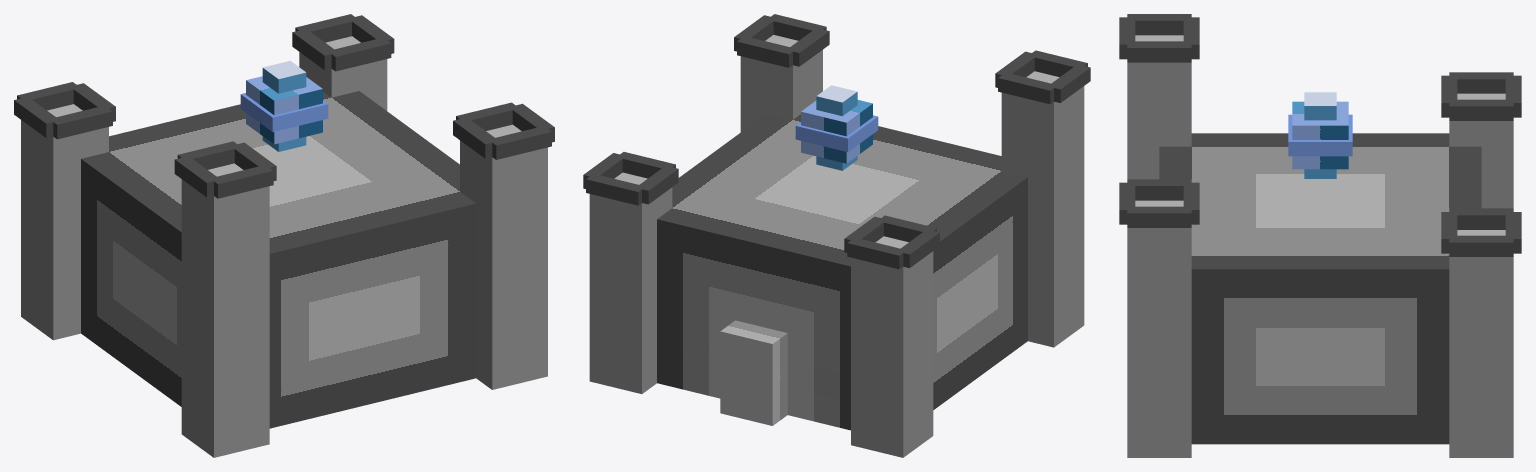
File: Castle.fbx
The picture shows the model from 3 angles, left to right: view 1: azimuth 30°, elevation 25°; view 2: azimuth 150°, elevation 25°; view 3: azimuth 270°, elevation 25°; orthographic projection. The views are drawn at different scales.
Parts seen in each view (by area): view 1: Base, SW Tower, SW Tower_2, SW Tower_4, SW Tower_3, cube_4, cube_3, S Rail_2, S Rail, S Rail_3, S Rail_1, cube_1 (+13 smaller); view 2: Base, SW Tower, SW Tower_4, SW Tower_3, Gate, SW Tower_2, cube_4, cube_3, N Rail_3, N Rail, N Rail_1, N Rail_2 (+14 smaller); view 3: Base, SW Tower_2, SW Tower_3, SW Tower, SW Tower_4, cube_4, E Rail, E Rail_1, E Rail_3, E Rail_2, cube_3, W Rail_2 (+13 smaller).
Boxes of the visible parts, x1=… form: Base: x1=81, y1=91, x2=475, y2=428; SW Tower: x1=181, y1=163, x2=269, y2=457; SW Tower_2: x1=460, y1=124, x2=547, y2=389; SW Tower_4: x1=21, y1=104, x2=108, y2=340; SW Tower_3: x1=299, y1=36, x2=387, y2=110; cube_4: x1=246, y1=76, x2=322, y2=115; cube_3: x1=240, y1=93, x2=328, y2=131; S Rail_2: x1=328, y1=37, x2=391, y2=71; S Rail: x1=210, y1=165, x2=273, y2=198; S Rail_3: x1=52, y1=105, x2=112, y2=139; S Rail_1: x1=488, y1=126, x2=551, y2=159; cube_1: x1=262, y1=60, x2=306, y2=93; Base: x1=657, y1=113, x2=1027, y2=430; SW Tower: x1=1001, y1=71, x2=1084, y2=347; SW Tower_4: x1=851, y1=236, x2=933, y2=457; SW Tower_3: x1=589, y1=172, x2=672, y2=393; Gate: x1=720, y1=320, x2=787, y2=425; SW Tower_2: x1=740, y1=35, x2=822, y2=131; cube_4: x1=801, y1=100, x2=872, y2=136; cube_3: x1=795, y1=115, x2=878, y2=151; N Rail_3: x1=847, y1=237, x2=905, y2=269; N Rail: x1=998, y1=72, x2=1057, y2=104; N Rail_1: x1=737, y1=36, x2=795, y2=67; N Rail_2: x1=586, y1=174, x2=644, y2=205; Base: x1=1159, y1=133, x2=1481, y2=444; SW Tower_2: x1=1127, y1=200, x2=1191, y2=457; SW Tower_3: x1=1449, y1=230, x2=1513, y2=457; SW Tower: x1=1127, y1=35, x2=1191, y2=179; SW Tower_4: x1=1449, y1=93, x2=1513, y2=208; cube_4: x1=1292, y1=101, x2=1348, y2=139; E Rail: x1=1127, y1=41, x2=1191, y2=62; E Rail_1: x1=1127, y1=206, x2=1191, y2=227; E Rail_3: x1=1449, y1=99, x2=1513, y2=120; E Rail_2: x1=1449, y1=235, x2=1513, y2=256; cube_3: x1=1288, y1=114, x2=1352, y2=156; W Rail_2: x1=1449, y1=208, x2=1513, y2=229.
Bounding box in the file's own units: 78.12 × 59.38 × 78.12.
5 materials, 5 textured.
